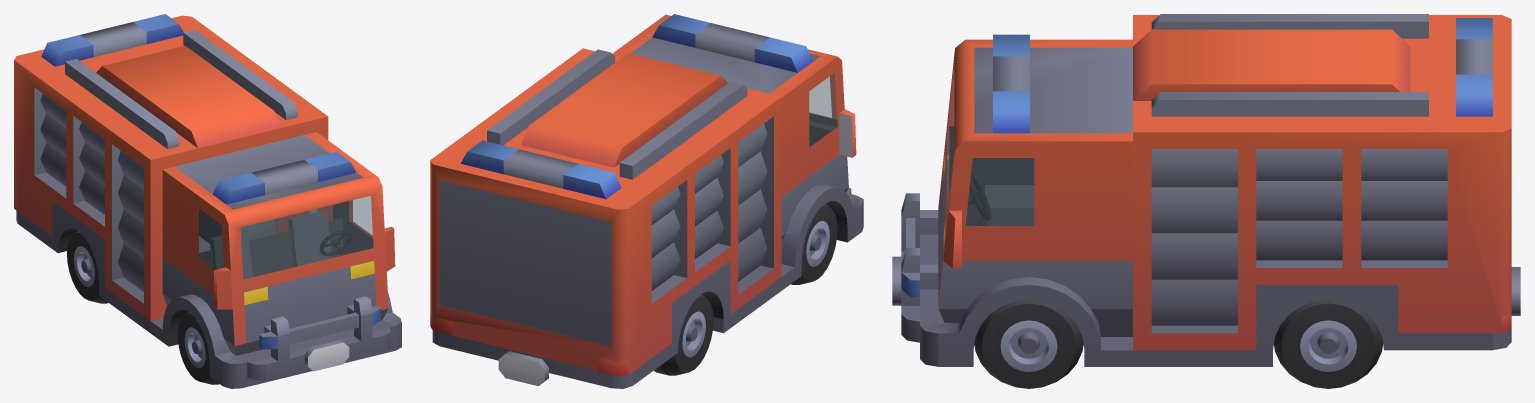
The model's file is firetruck.glb.
3 views of the same model, side by side, from view 1: azimuth 30°, elevation 25°; view 2: azimuth 150°, elevation 25°; view 3: azimuth 270°, elevation 25° (orthographic). The views are drawn at different scales.
Visible parts, largest first — view 1: body, glass, interior, door-front-right-panel, wheel-front-right, wheel-back-right, door-front-right-glass, door-front-left-trim, wheel-back-left, door-front-left-glass, steering-wheel; view 2: body, door-front-right-panel, wheel-back-right, wheel-front-right, door-front-right-glass, glass, interior; view 3: body, door-front-left-panel, wheel-front-left, wheel-back-left, door-front-left-glass, interior, door-front-right-trim, glass, steering-wheel.
Boxes of the visible parts, x1,y1,x2,y2 form: body: (14, 14, 401, 388); glass: (241, 196, 373, 279); interior: (199, 211, 372, 279); door-front-right-panel: (175, 197, 225, 323); wheel-front-right: (177, 312, 219, 384); wheel-back-right: (67, 230, 108, 303); door-front-right-glass: (199, 209, 223, 269); door-front-left-trim: (333, 201, 373, 254); wheel-back-left: (199, 209, 258, 243); door-front-left-glass: (353, 196, 372, 234); steering-wheel: (319, 230, 351, 256); body: (430, 14, 863, 388); door-front-right-panel: (791, 70, 840, 212); wheel-back-right: (654, 294, 713, 375); wheel-front-right: (791, 203, 837, 284); door-front-right-glass: (809, 73, 837, 146); glass: (809, 77, 831, 117); interior: (809, 113, 837, 147); body: (892, 14, 1520, 366); door-front-left-panel: (962, 158, 1077, 295); wheel-front-left: (974, 300, 1083, 388); wheel-back-left: (1274, 300, 1382, 388); door-front-left-glass: (966, 158, 1033, 225); interior: (949, 126, 1034, 225); door-front-right-trim: (971, 158, 1034, 189); glass: (947, 70, 953, 213); steering-wheel: (947, 175, 991, 220).
Size of the model in its own units: 2.55 by 2.89 by 5.78.
Materials: 3 (1 with a texture image).
